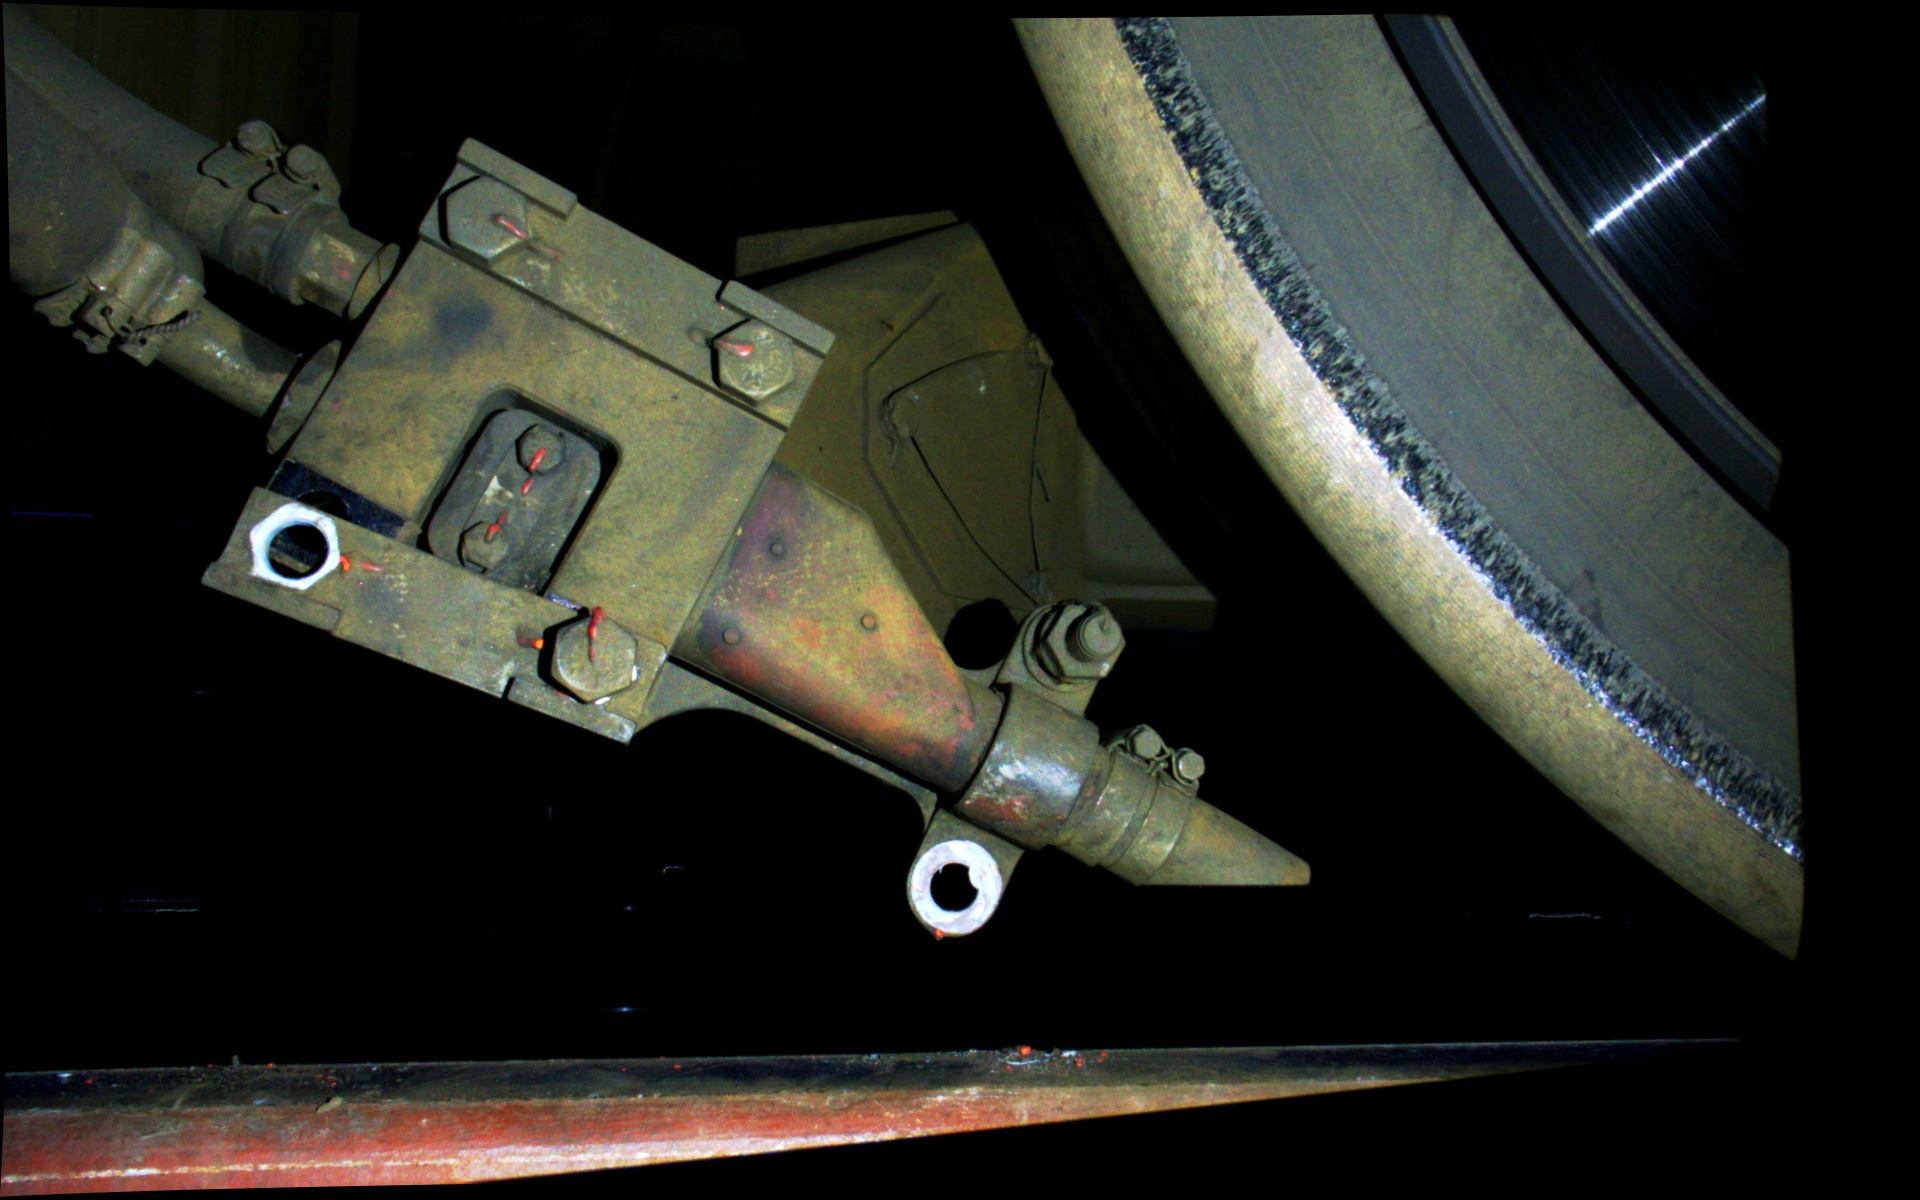bolthead1: (429, 169, 534, 265)
bolthead2: (697, 312, 796, 408)
bolthead3: (249, 495, 344, 599)
bolthead4: (534, 599, 640, 708)
bolthead5: (1033, 599, 1127, 691)
bolthead6: (912, 843, 998, 930)
